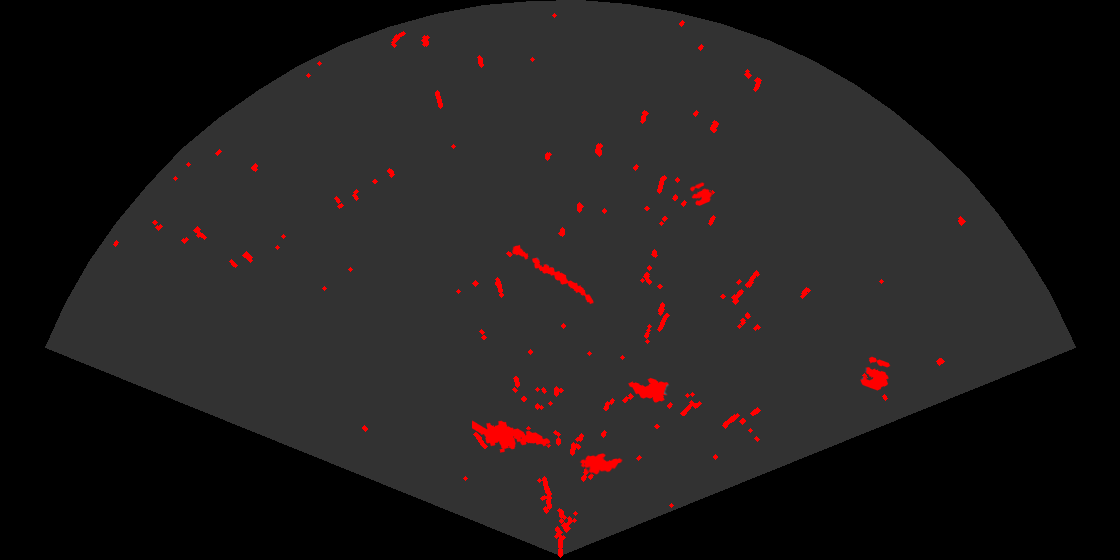AUV: (627, 376, 670, 404), (578, 452, 624, 477)
ball: (859, 355, 892, 392), (688, 181, 714, 207)
chain: (510, 243, 595, 306)
frogman: (472, 419, 552, 454)
